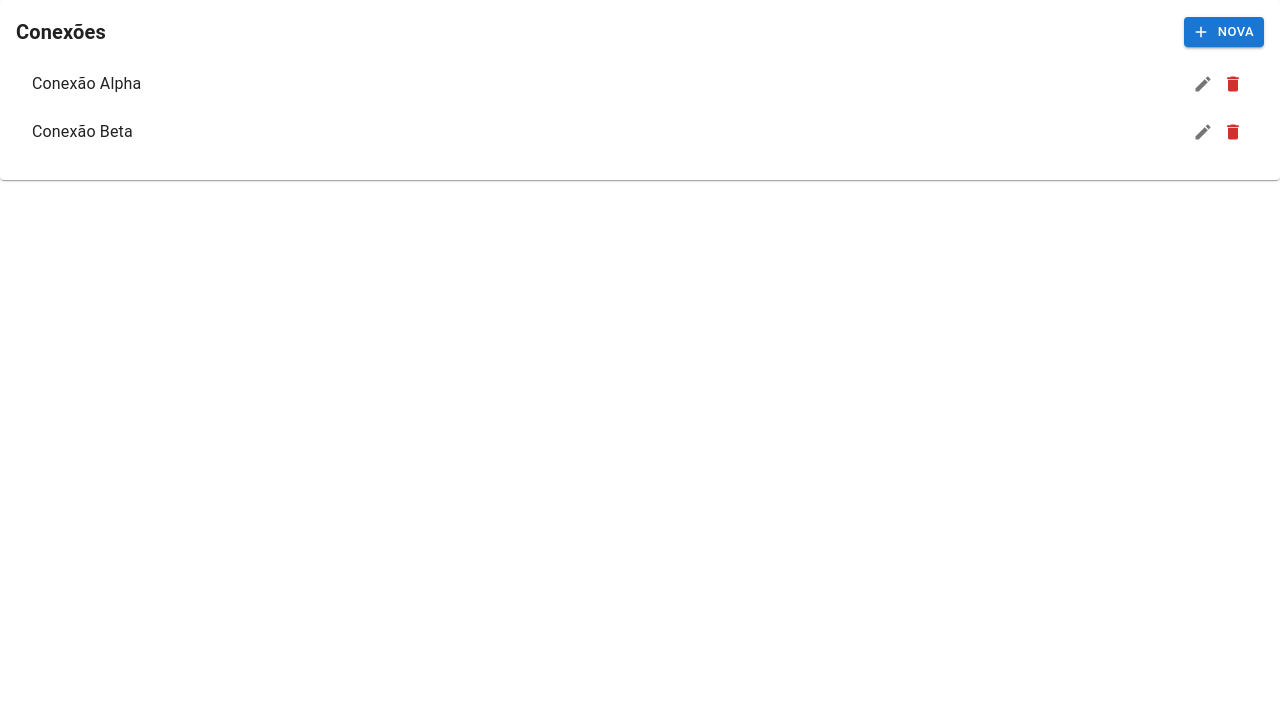
ConnectionsList › abre confirm dialog ao clicar em excluir
The width and height of the screenshot is (1280, 720).
Click the 1st button named "Excluir". click: coordinates (1233, 84)
box: [1218,69,1248,99]
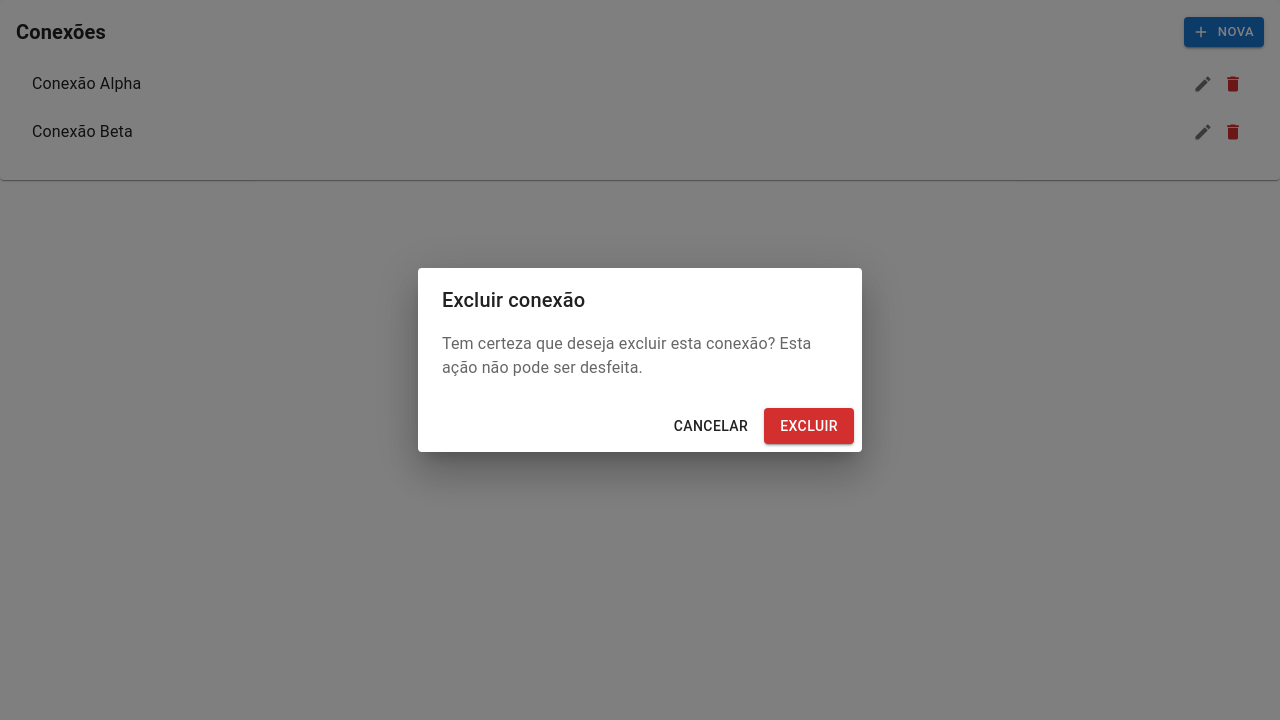
Check: the heading "Excluir conexão" is shown, box [442,288,585,312]
